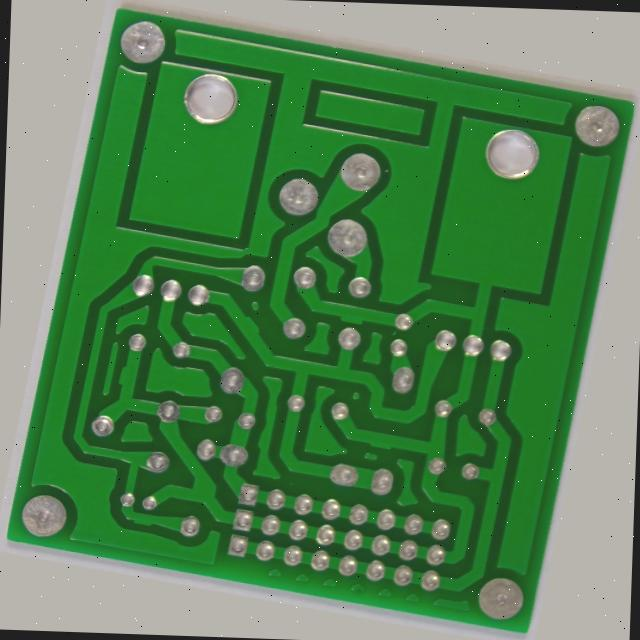spur: (394, 435, 434, 457), (228, 321, 257, 351), (335, 300, 375, 321), (94, 397, 116, 427), (140, 561, 173, 580)
